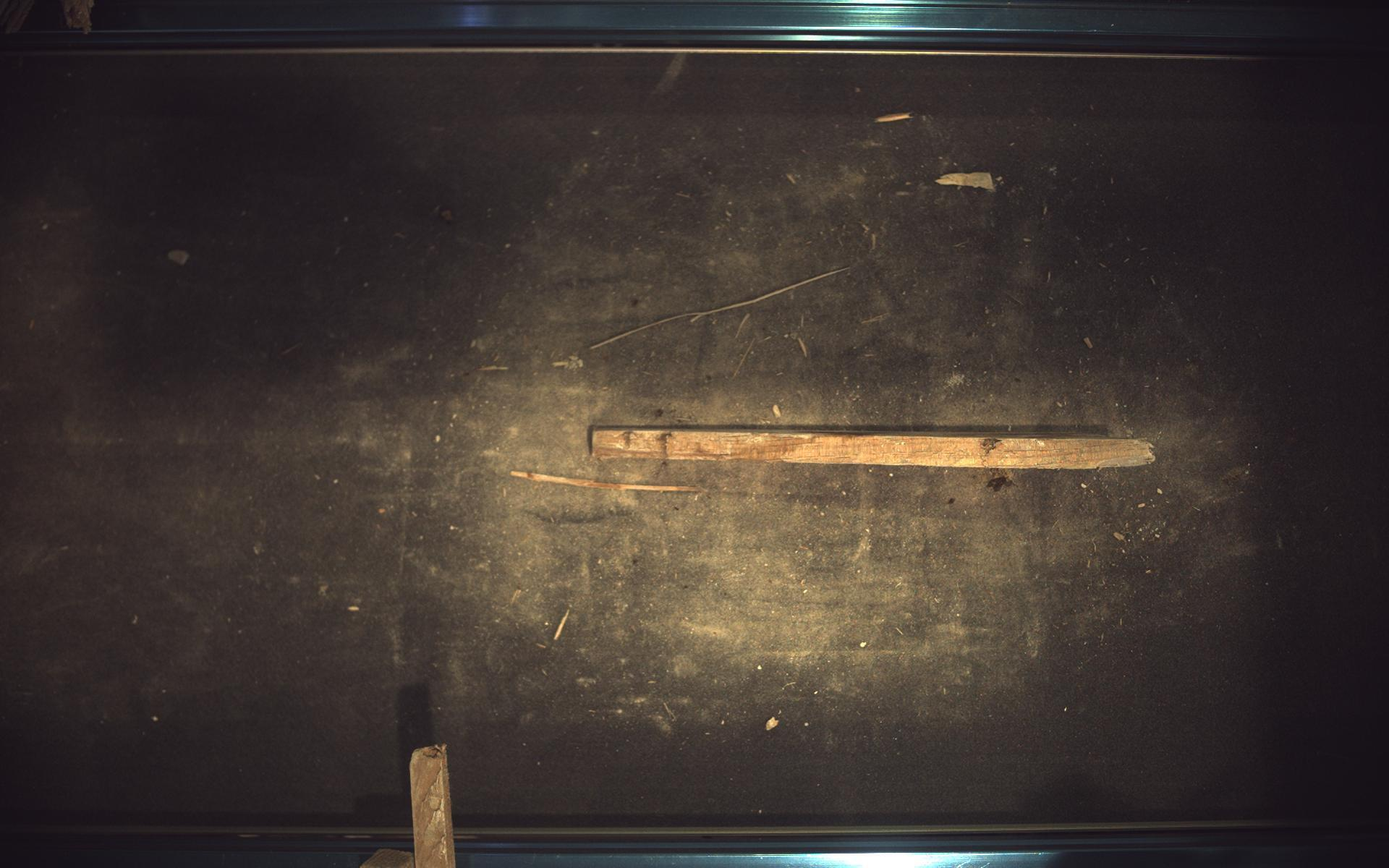wood: (592, 428, 1158, 469), (409, 746, 456, 868), (511, 472, 705, 493), (360, 850, 415, 868)
